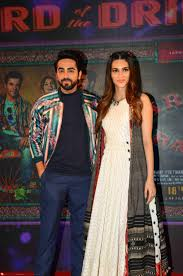Bad: (29, 50, 155, 276)
